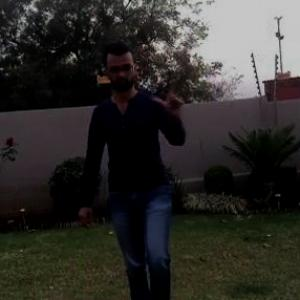land_hand: (154, 81, 187, 116)
